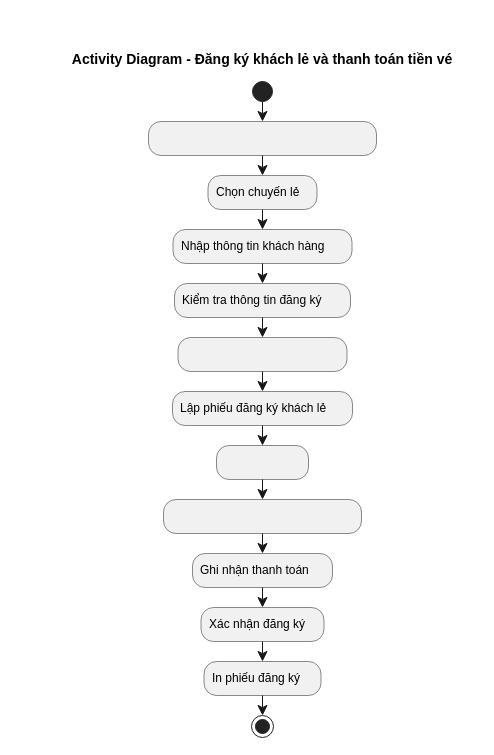
The diagram is 494 pixels wide and 755 high, and some of its shapes have lost their labels. The shapes that lost their labels are listed below. From the top down, each one's box as (x1, y1, x2, y2) in pixels, then its label:
(148, 121, 376, 155): Nhân viên bán vé tiếp nhận yêu cầu
(177, 337, 347, 371): Kiểm tra số chỗ còn trống
(216, 445, 308, 479): Tính tiền vé
(163, 499, 361, 533): Khách hàng thanh toán tiền vé
